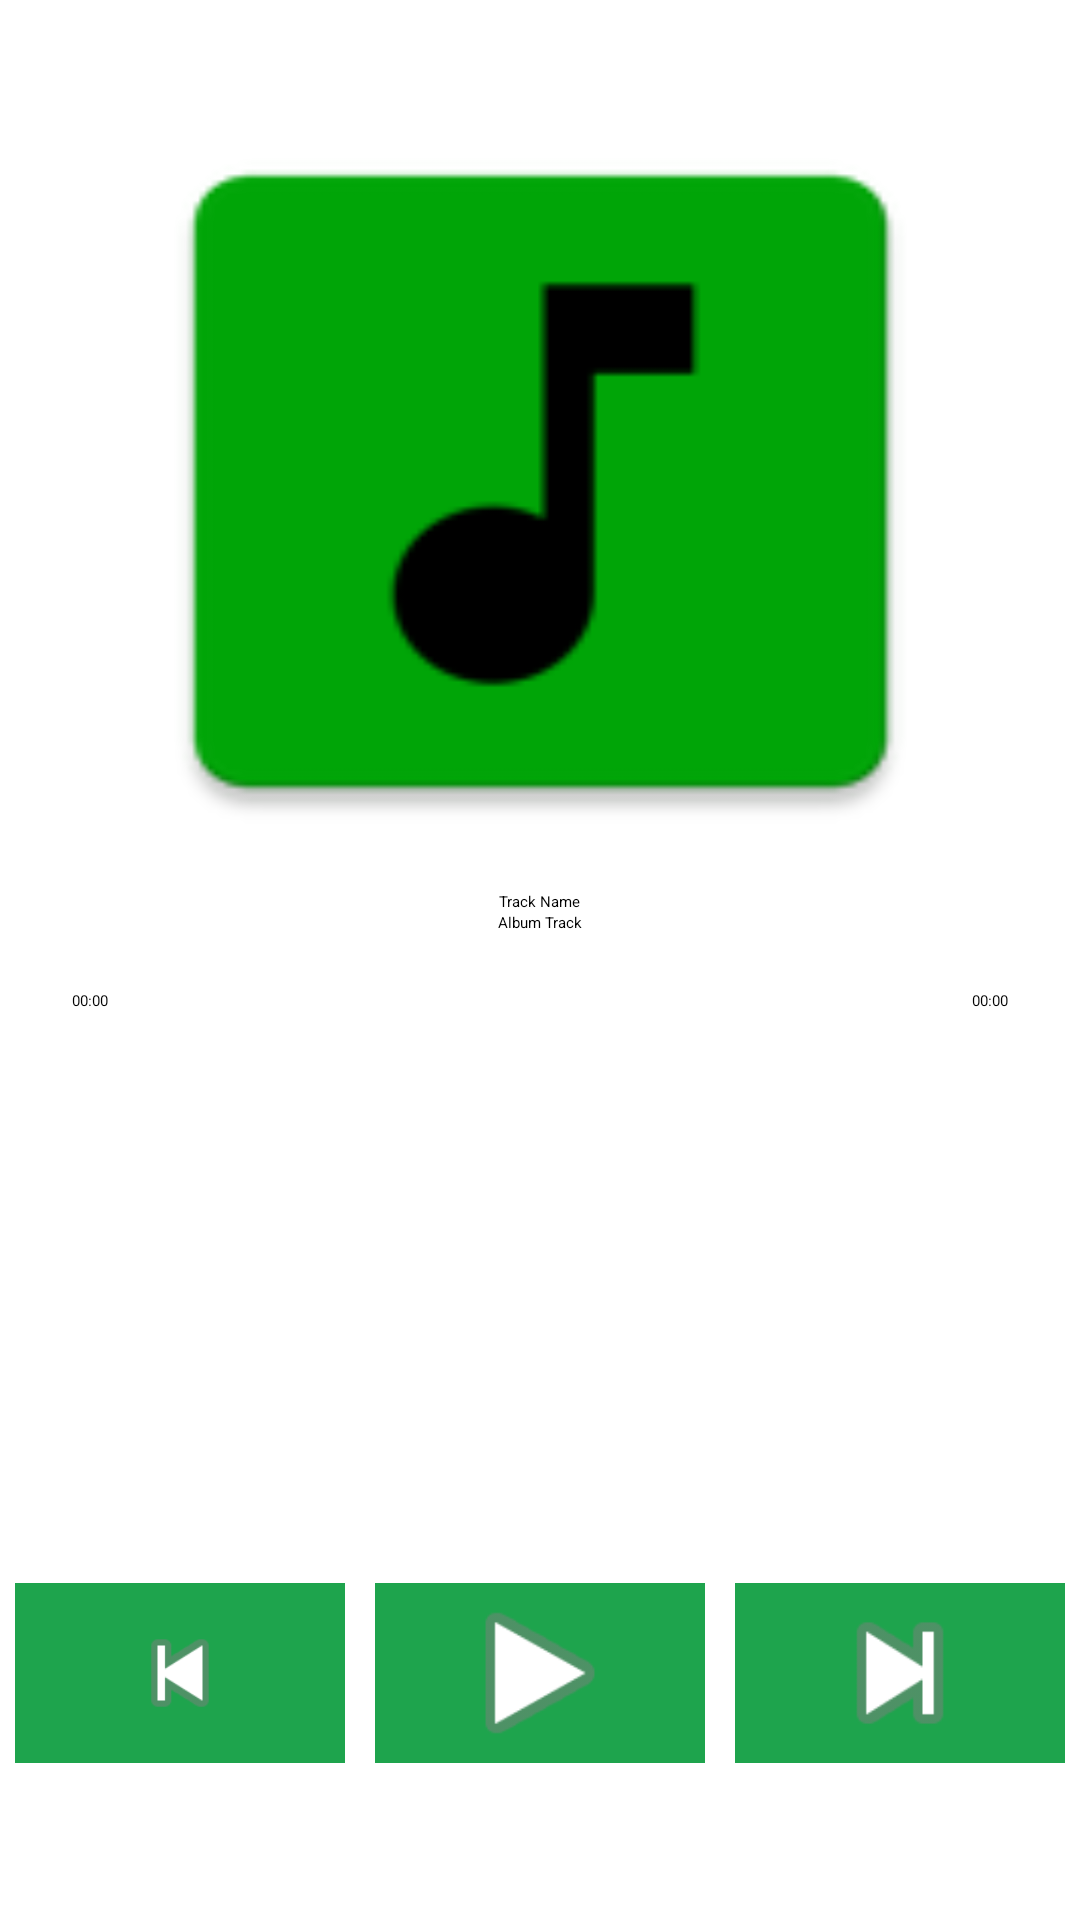

Point at icon controls on the screen. Image size 1080*1920, points as [x,y].
next: [900,1673]
play: [540,1673]
previous: [180,1673]
